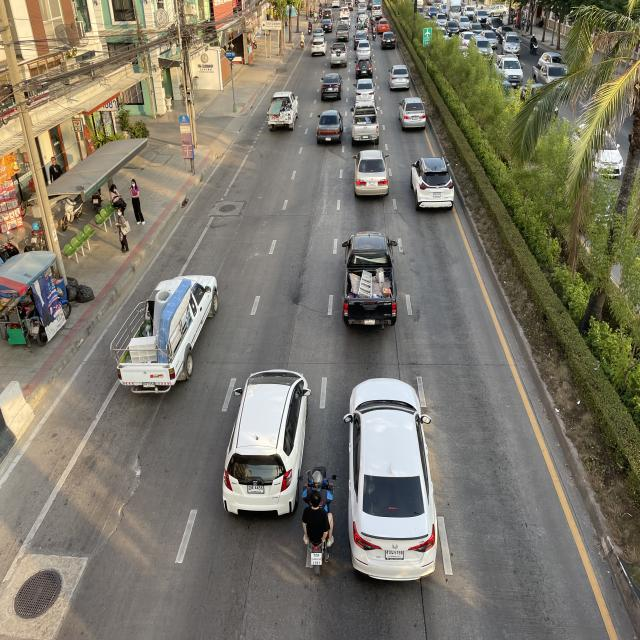bike: (296, 462, 340, 580)
car: (344, 376, 439, 584), (219, 367, 311, 515), (410, 154, 456, 214), (352, 149, 390, 198), (396, 95, 428, 134), (312, 108, 344, 146)
truck: (109, 268, 218, 399), (340, 229, 399, 333), (266, 88, 300, 136), (350, 102, 381, 145)
